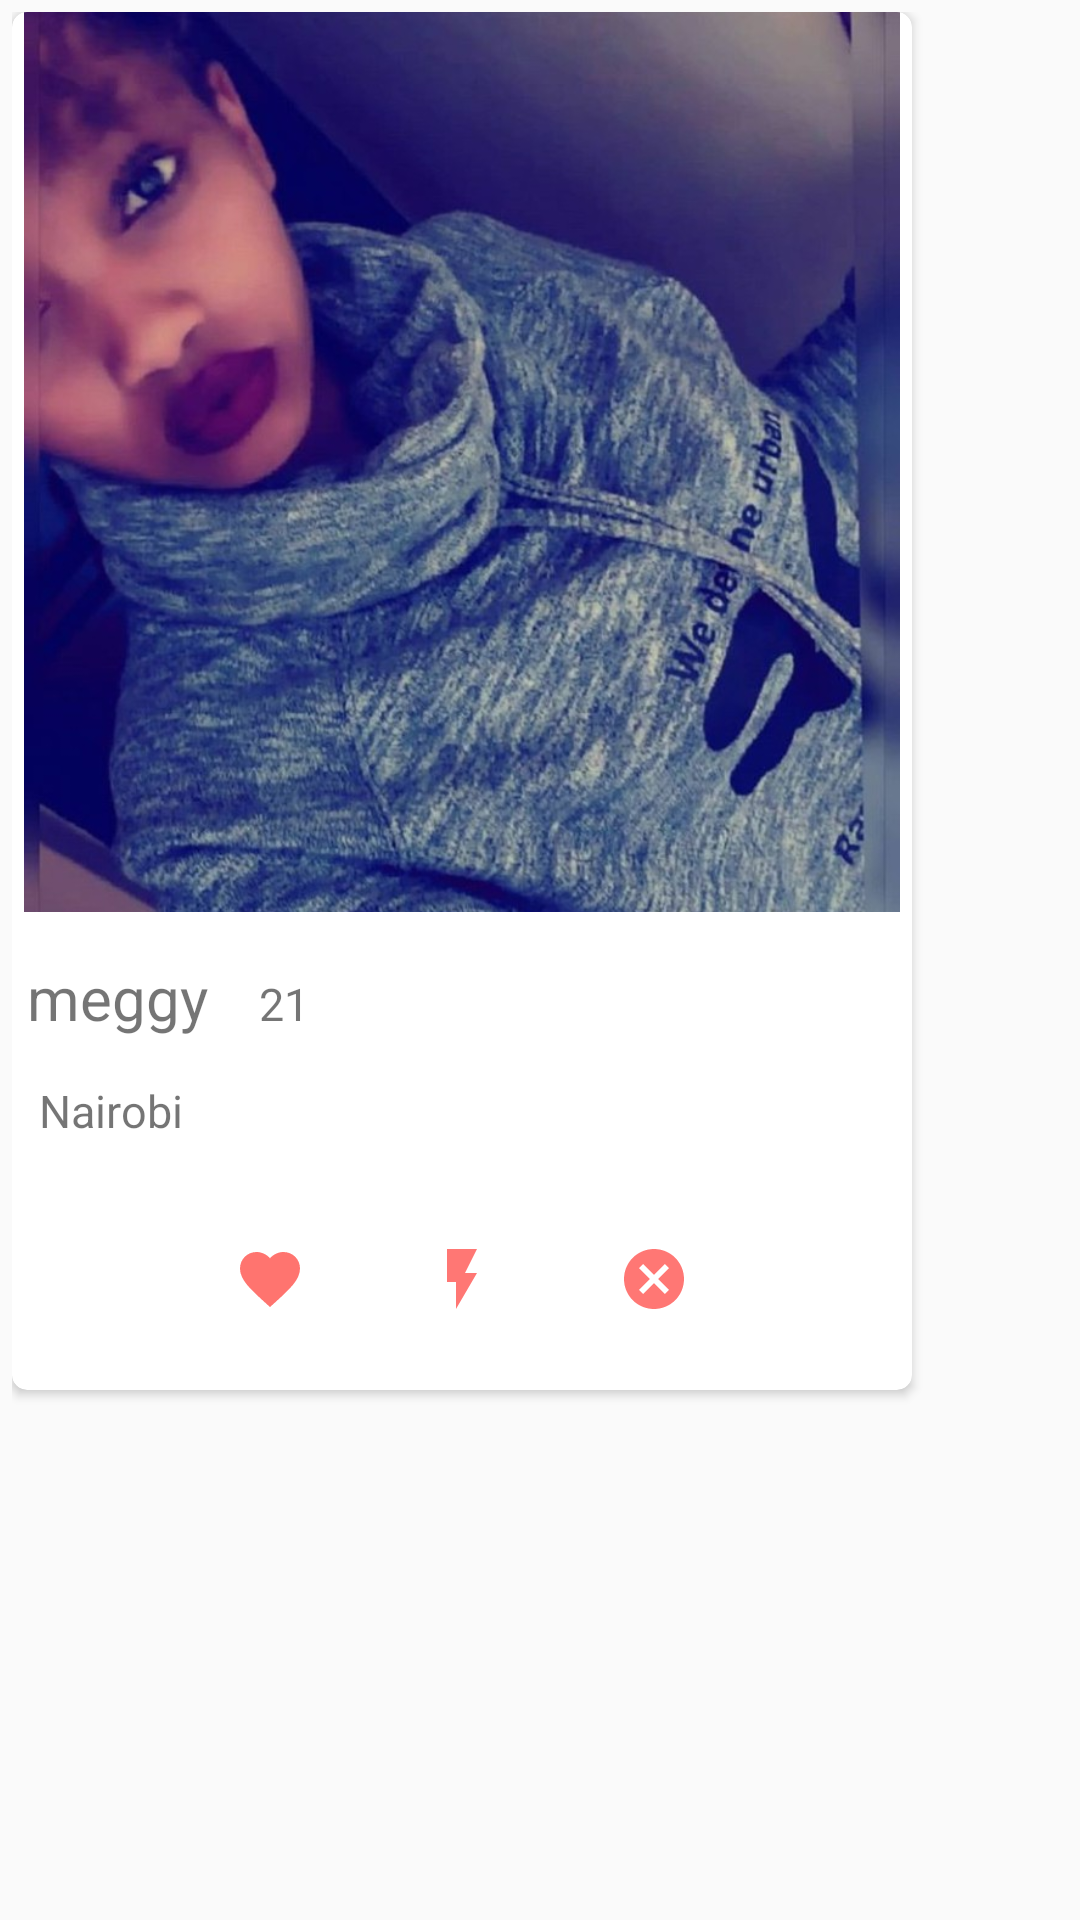

Where to tap for icons on this 1080 x 1920 app screen, as [x,y]:
cancel: [654,1279]
favorite: [270,1279]
flash on: [462,1279]
